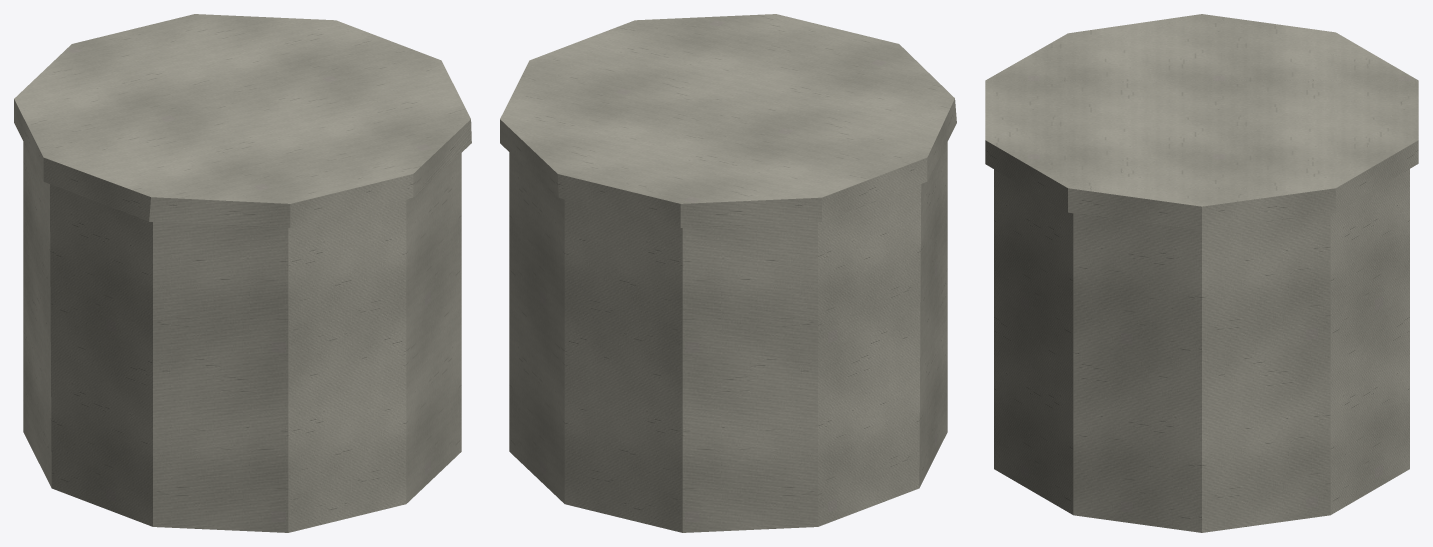
The model's file is bucket_v2.glb.
3 renders of one model, left to right at view 1: azimuth 30°, elevation 25°; view 2: azimuth 150°, elevation 25°; view 3: azimuth 270°, elevation 25°, orthographic.
Parts seen in each view (by area): view 1: Variant_bucket_2; view 2: Variant_bucket_2; view 3: Variant_bucket_2.
Part boxes in pixels (left/top/right/bottom): Variant_bucket_2: left=14, top=14, right=471, bottom=532; Variant_bucket_2: left=500, top=14, right=956, bottom=532; Variant_bucket_2: left=985, top=14, right=1418, bottom=532.
Size of the model in its own units: 0.344 by 0.275 by 0.3272.
Materials: 1 (1 with a texture image).
